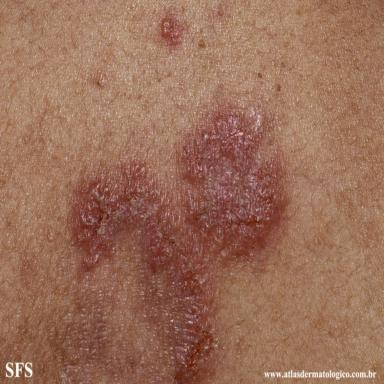Hailey-Hailey-Disease: (48, 102, 289, 384), (161, 12, 185, 46)
